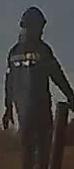gloves: (2, 105, 15, 131)
vest: (11, 43, 52, 125)
